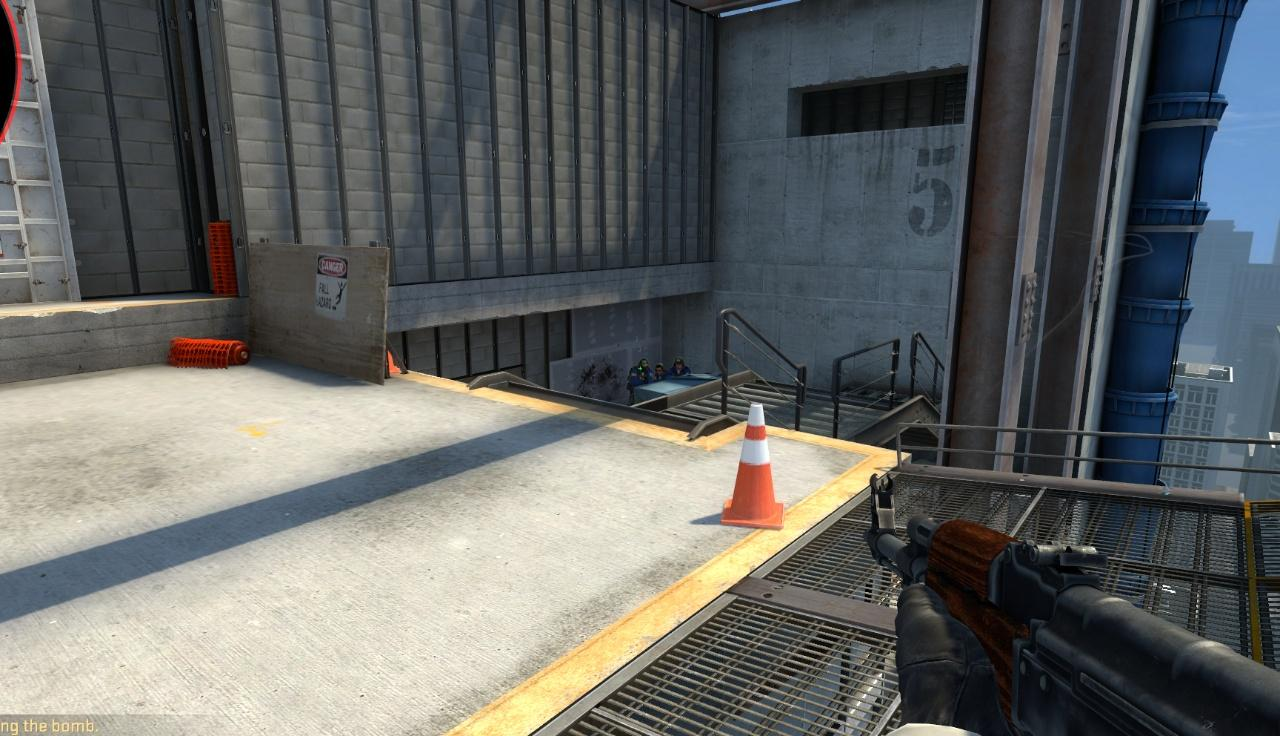ct: (630, 358, 653, 383), (671, 357, 690, 374), (653, 363, 670, 380)
cthead: (674, 357, 684, 369), (655, 364, 665, 375), (639, 359, 649, 370)
rifle: (855, 462, 1280, 736)
